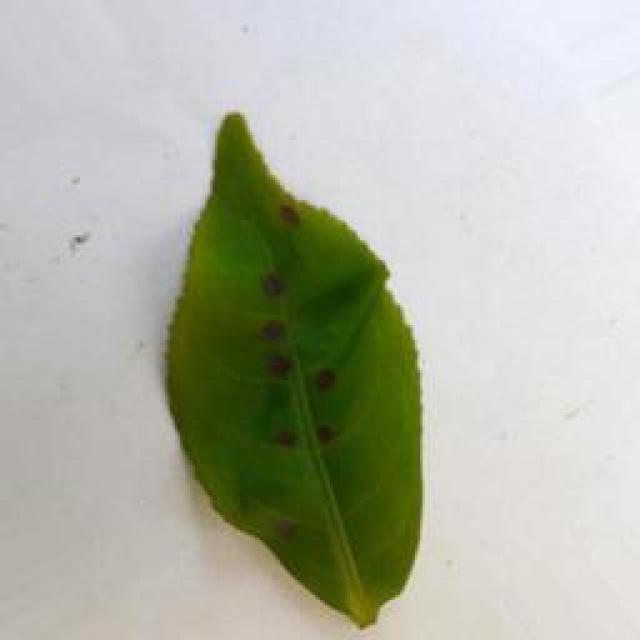Helopeltis: (150, 105, 430, 628)
